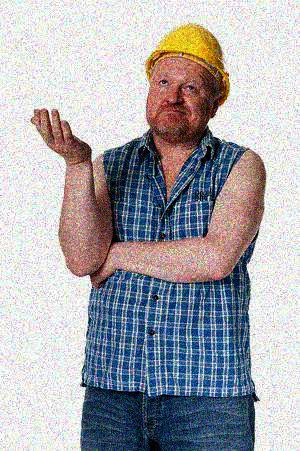helmet: (144, 21, 232, 145)
